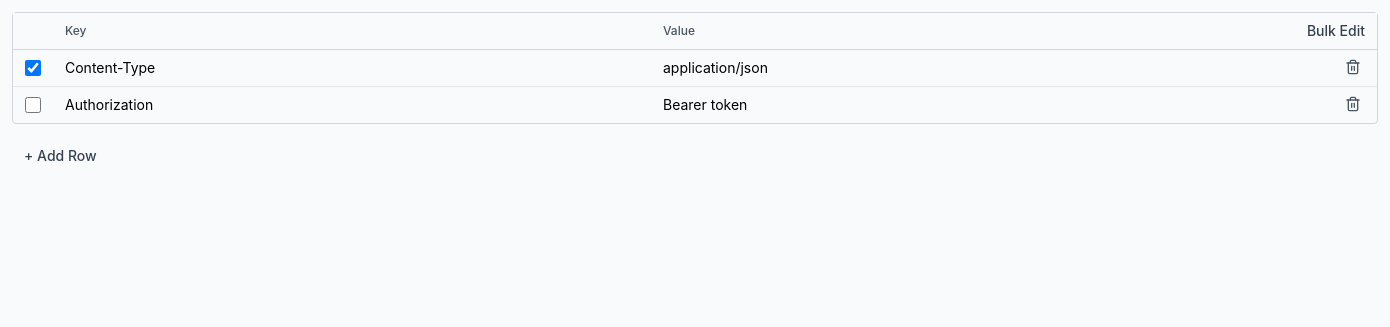
Test case: KeyValueEditor › switches to bulk edit mode
Click the button "Bulk Edit".
click(1336, 31)  # box [1295,15,1377,47]
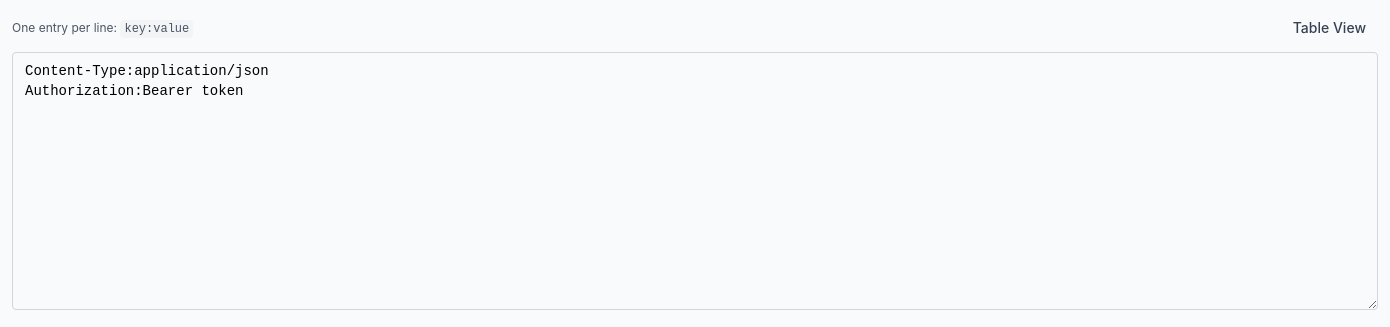
expect the text box is shown: met
